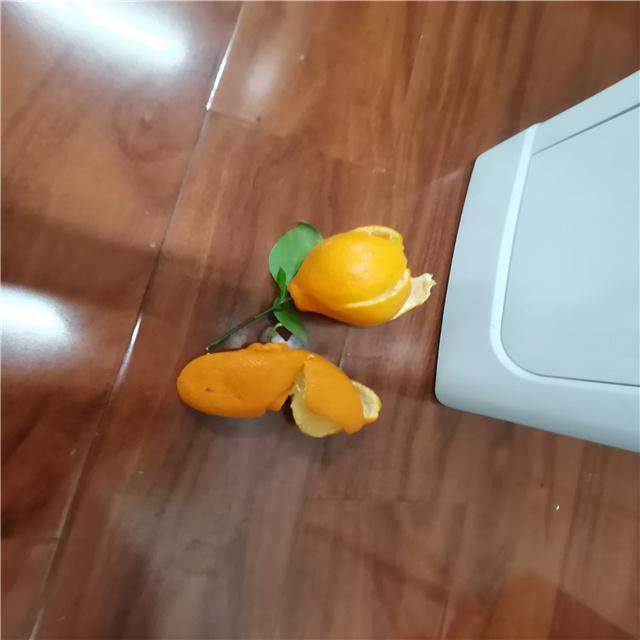orange peel: (175, 339, 382, 442), (288, 222, 438, 328)
